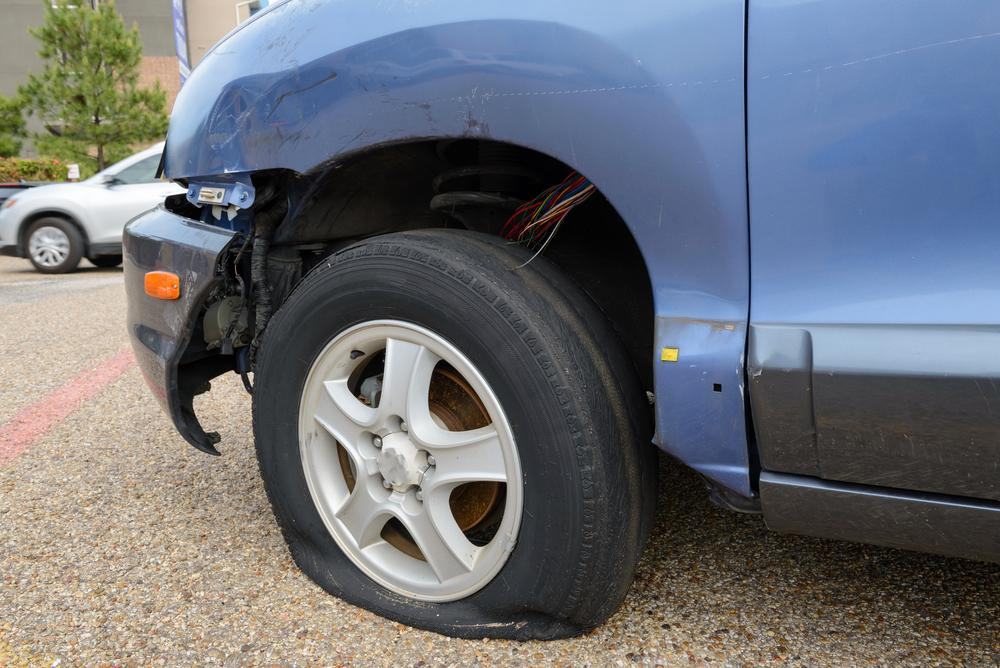dent: (208, 71, 336, 175)
scratch: (265, 75, 502, 166), (255, 0, 325, 64)
tire flat: (248, 227, 651, 642)
